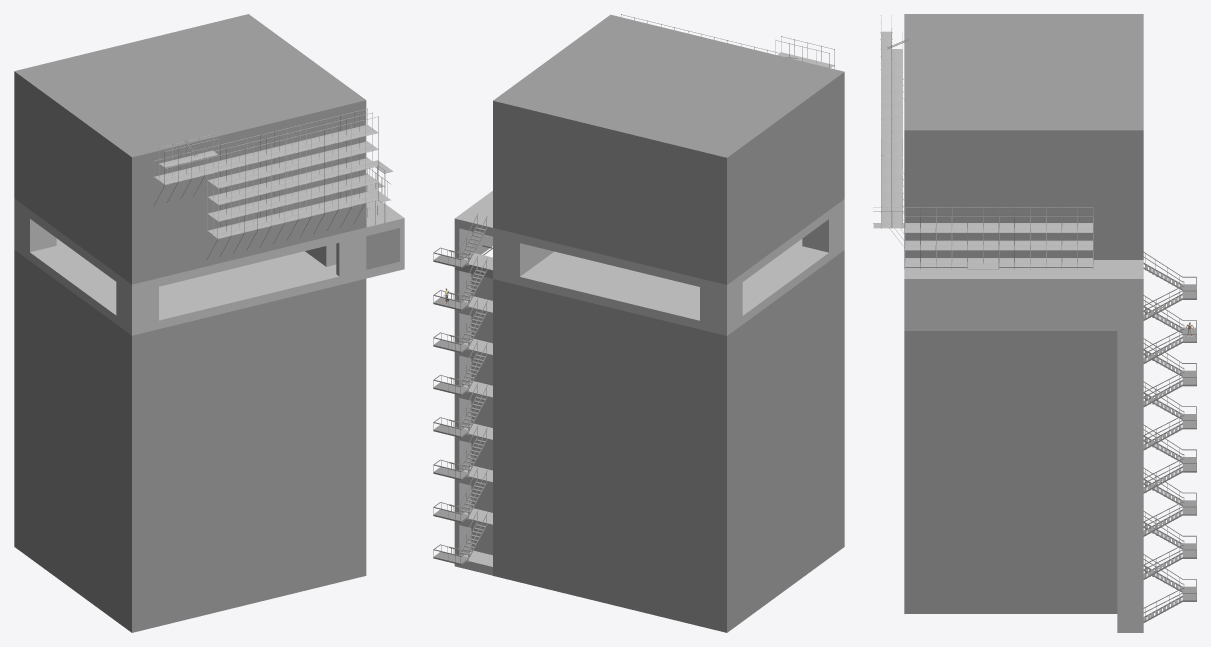
File: BuildingV3T1.fbx
3 views of the same model, side by side, from view 1: azimuth 30°, elevation 25°; view 2: azimuth 150°, elevation 25°; view 3: azimuth 270°, elevation 25° (orthographic).
Parts seen in each view (by area): view 1: Scaffold__Short_:Scaffold__Short_:Scaffold__Short_:Scaffold_; view 2: Scaffold__Short_:Scaffold__Short_:Scaffold__Short_:Scaffold_; view 3: Scaffold__Short_:Scaffold__Short_:Scaffold__Short_:Scaffold_.
Boxes of the visible parts, box(x1,y1,x2,y2) form: Scaffold__Short_:Scaffold__Short_:Scaffold__Short_:Scaffold_: box(14, 14, 404, 632); Scaffold__Short_:Scaffold__Short_:Scaffold__Short_:Scaffold_: box(433, 14, 844, 632); Scaffold__Short_:Scaffold__Short_:Scaffold__Short_:Scaffold_: box(873, 14, 1196, 632).
Bounding box in the file's own units: 3957 × 6270 × 3730.
